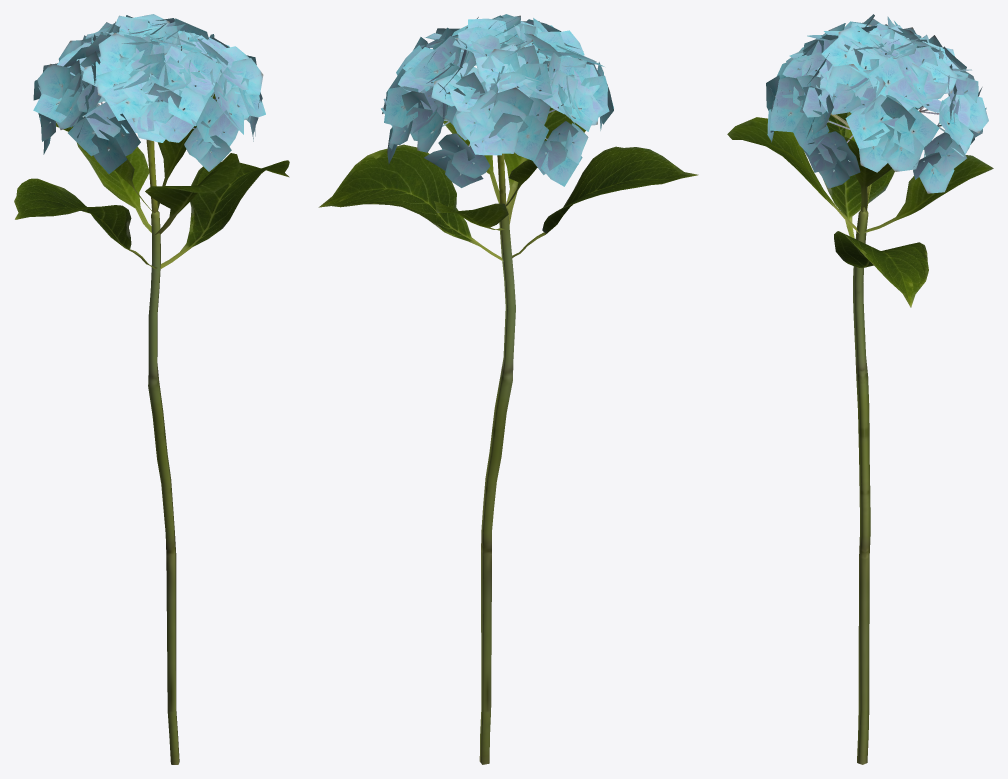
Rendered from Hydrangea OG LONG CYAN.glb.
3 views of the same model, side by side, from view 1: azimuth 30°, elevation 25°; view 2: azimuth 150°, elevation 25°; view 3: azimuth 270°, elevation 25° (orthographic). The views are drawn at different scales.
Parts seen in each view (by area): view 1: Hydrangea; view 2: Hydrangea; view 3: Hydrangea.
Part boxes in pixels (left/top/right/bottom): Hydrangea: left=14, top=14, right=289, bottom=764; Hydrangea: left=318, top=14, right=698, bottom=764; Hydrangea: left=727, top=14, right=993, bottom=764.
Bounding box in the file's own units: 1.38 × 2.99 × 1.
Materials: 1 (1 with a texture image).
